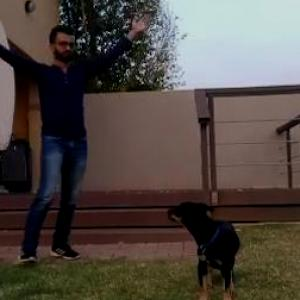takeoff: (1, 18, 154, 276)
